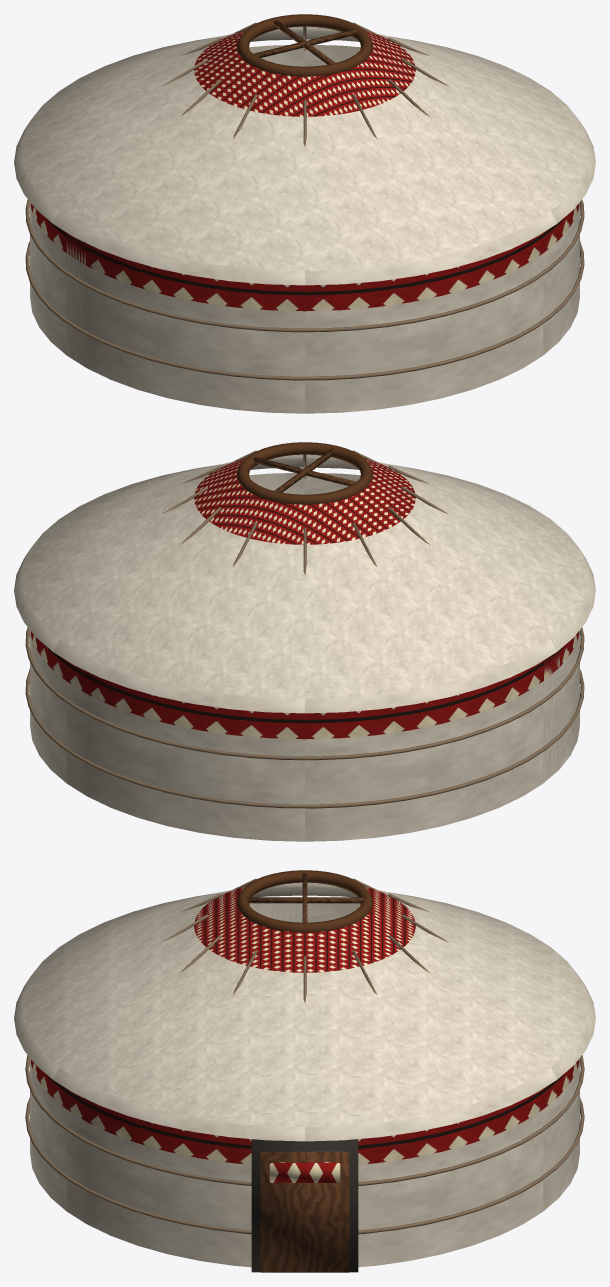
File: B_yurt.glb
The picture shows the model from 3 angles, top to bottom: view 1: azimuth 30°, elevation 25°; view 2: azimuth 150°, elevation 25°; view 3: azimuth 270°, elevation 25°; orthographic projection.
Parts seen in each view (by area): view 1: B_yurt; view 2: B_yurt; view 3: B_yurt.
Boxes of the visible parts, x1=… form: B_yurt: x1=14, y1=14, x2=595, y2=413; B_yurt: x1=14, y1=442, x2=595, y2=841; B_yurt: x1=14, y1=870, x2=595, y2=1272.
Bounding box in the file's own units: 6.56 × 3.18 × 6.56.
Materials: 5 (3 with a texture image).
